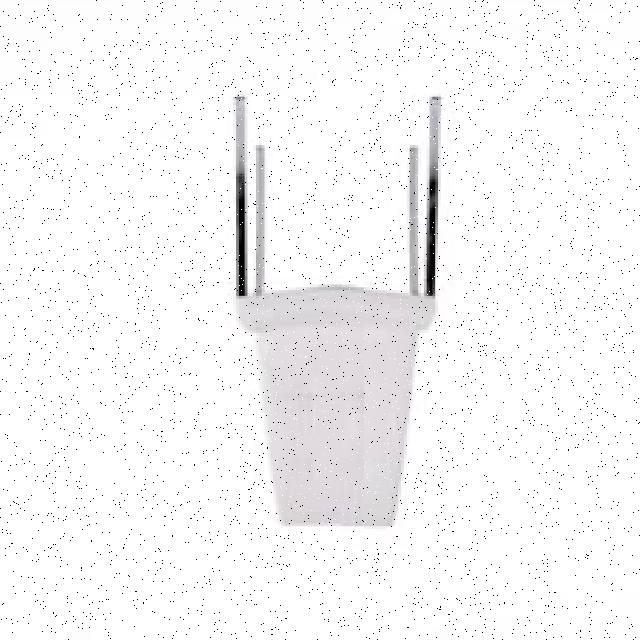bottle: (225, 87, 464, 529)
